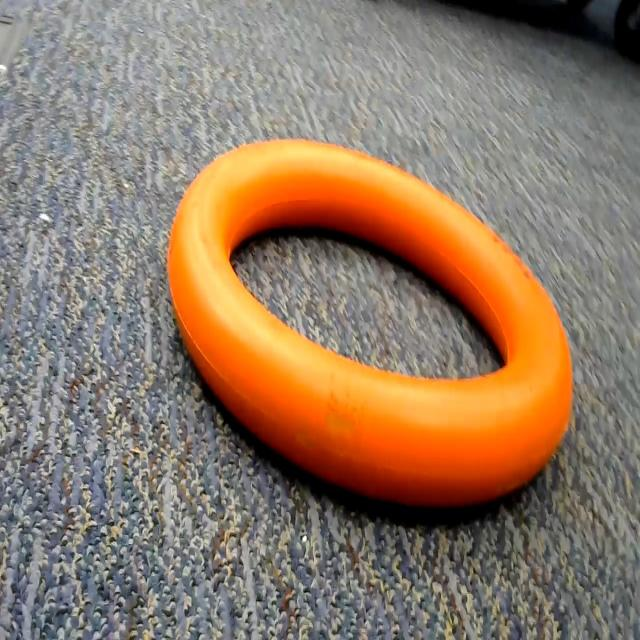note: (168, 130, 581, 526)
